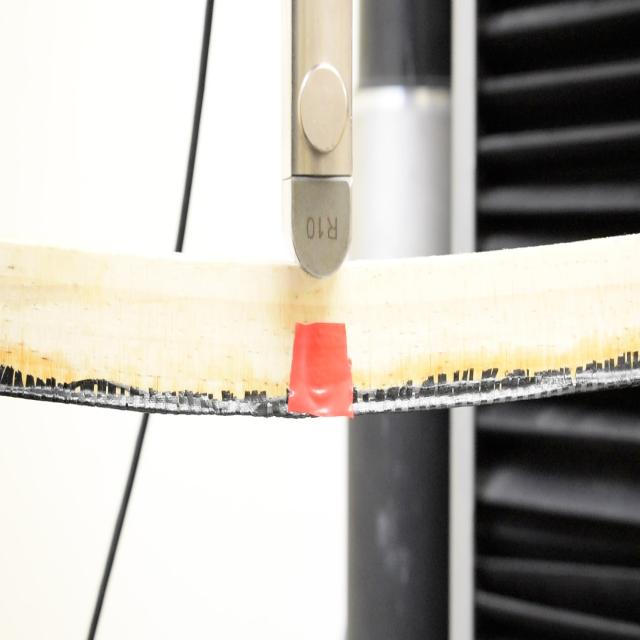wood: (0, 242, 635, 418)
